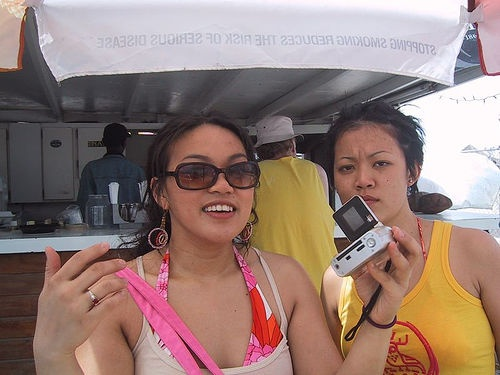head: (149, 110, 259, 244), (331, 103, 420, 216), (248, 111, 308, 173), (95, 120, 136, 165)
person: (27, 102, 369, 373), (316, 95, 500, 372), (247, 111, 337, 294), (74, 122, 147, 208)
